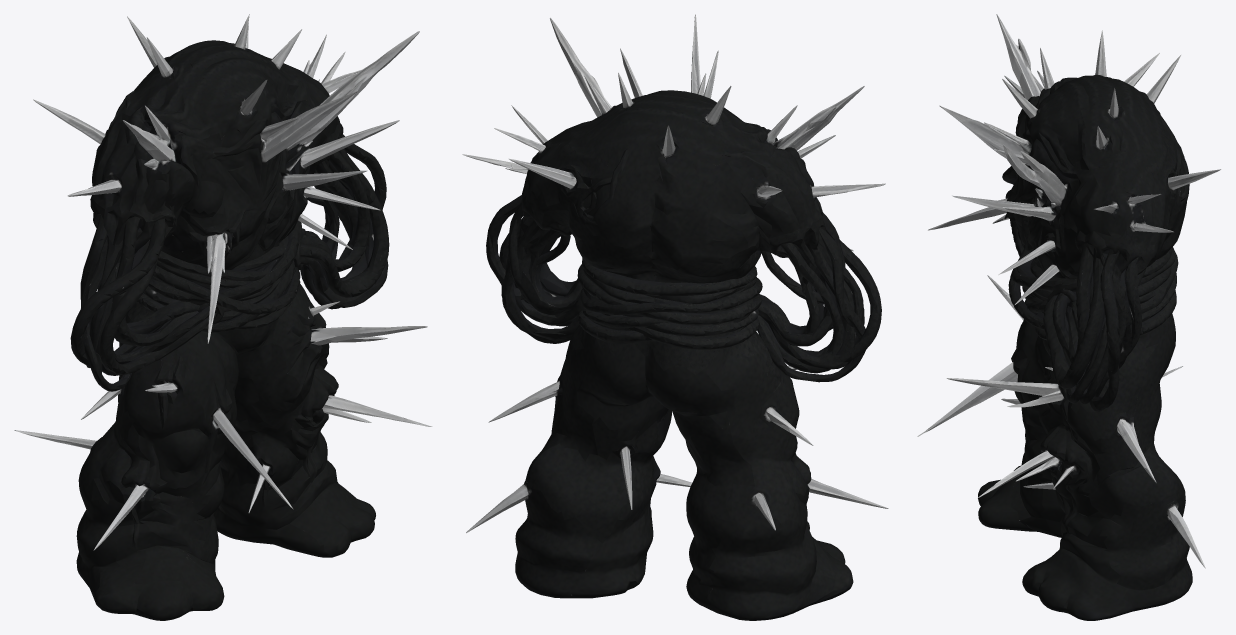
The model's file is Meshy_AI_Refine_the_impaled_cr_1105151647_texture.glb.
3 renders of one model, left to right at view 1: azimuth 30°, elevation 25°; view 2: azimuth 150°, elevation 25°; view 3: azimuth 270°, elevation 25°, orthographic. The views are drawn at different scales.
Visible parts, largest first — view 1: output_unwrapped; view 2: output_unwrapped; view 3: output_unwrapped.
Part boxes in pixels (x1,y1,x2,y2): output_unwrapped: (14, 14, 432, 620); output_unwrapped: (462, 14, 888, 620); output_unwrapped: (917, 14, 1220, 620).
Bounding box in the file's own units: 1.37 × 1.9 × 1.06.
Materials: 1 (1 with a texture image).
